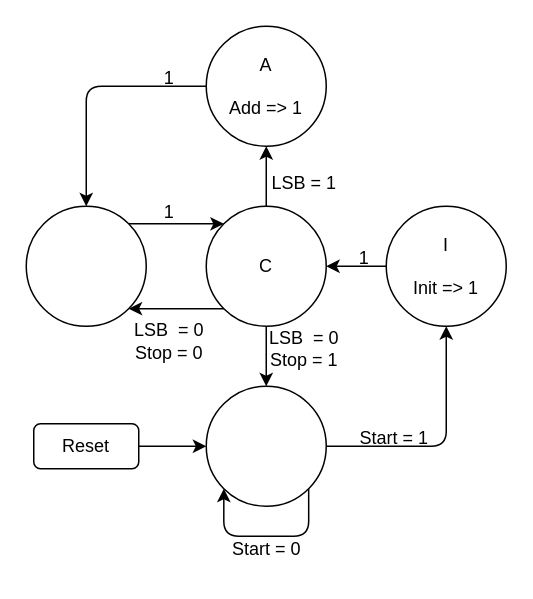
Image size: 533x599. Some labels were removed from this diagram. The box of each missing label's shape, as (x1, y1, x2, y2) in pixels:
E Done => 1: (205, 385, 326, 506)
S Shift => 1: (25, 205, 146, 326)
